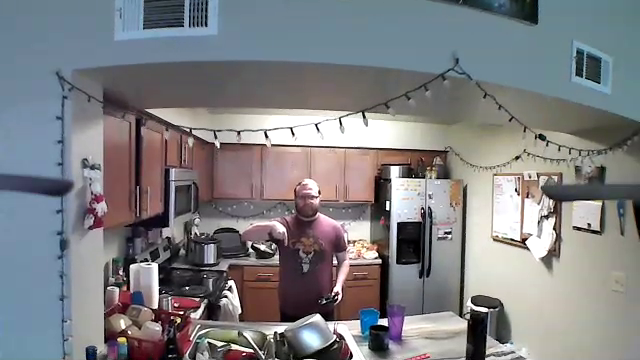down: (269, 219, 289, 248)
